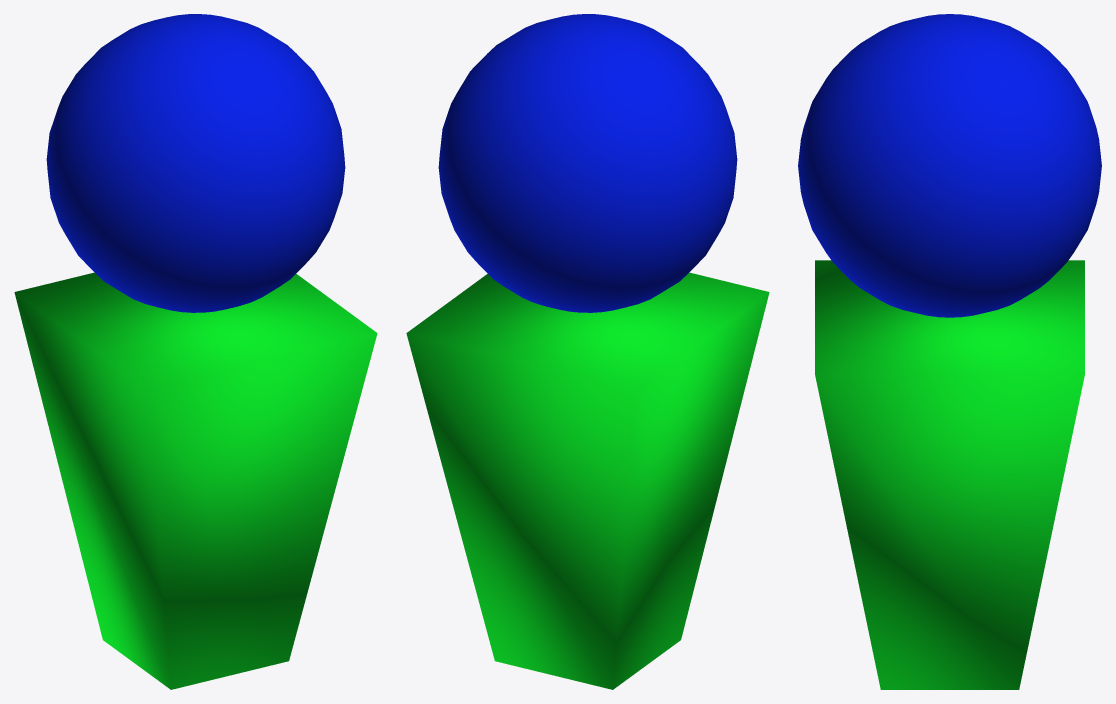
File: character.glb
3 views of the same model, side by side, from view 1: azimuth 30°, elevation 25°; view 2: azimuth 150°, elevation 25°; view 3: azimuth 270°, elevation 25° (orthographic).
Visible parts, largest first — view 1: Sphere.001; view 2: Sphere.001; view 3: Sphere.001.
Boxes of the visible parts, bbox=[...] form: Sphere.001: bbox=[14, 14, 377, 689]; Sphere.001: bbox=[406, 14, 769, 689]; Sphere.001: bbox=[798, 14, 1101, 689].
Bounding box in the file's own units: 0.7639 × 1.75 × 0.7639.
